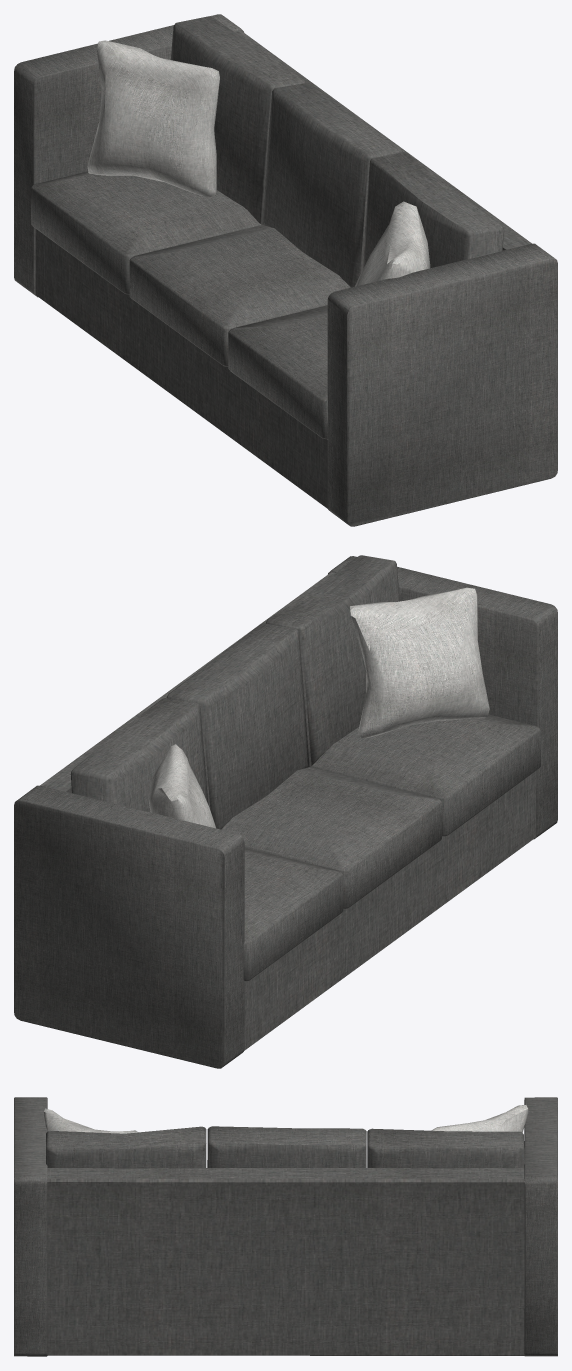
Rendered from sofa_3.glb.
The picture shows the model from 3 angles, top to bottom: view 1: azimuth 30°, elevation 25°; view 2: azimuth 150°, elevation 25°; view 3: azimuth 270°, elevation 25°; orthographic projection. The views are drawn at different scales.
Visible parts, largest first — view 1: couch; view 2: couch; view 3: couch.
Boxes of the visible parts, bbox=[...] form: couch: bbox=[14, 14, 557, 526]; couch: bbox=[14, 555, 557, 1068]; couch: bbox=[14, 1097, 557, 1356].
Bounding box in the file's own units: 0.9779 × 1.09 × 2.63.
Materials: 1 (1 with a texture image).
